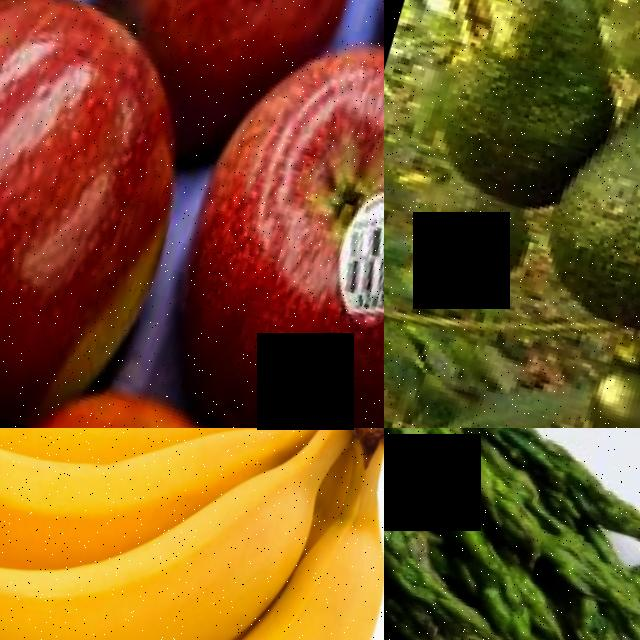apple: (130, 0, 384, 428), (0, 0, 224, 428), (75, 0, 384, 70)
avocado: (423, 0, 640, 229), (548, 30, 640, 367), (384, 160, 546, 303), (564, 332, 640, 428)
banana: (0, 428, 384, 640)
